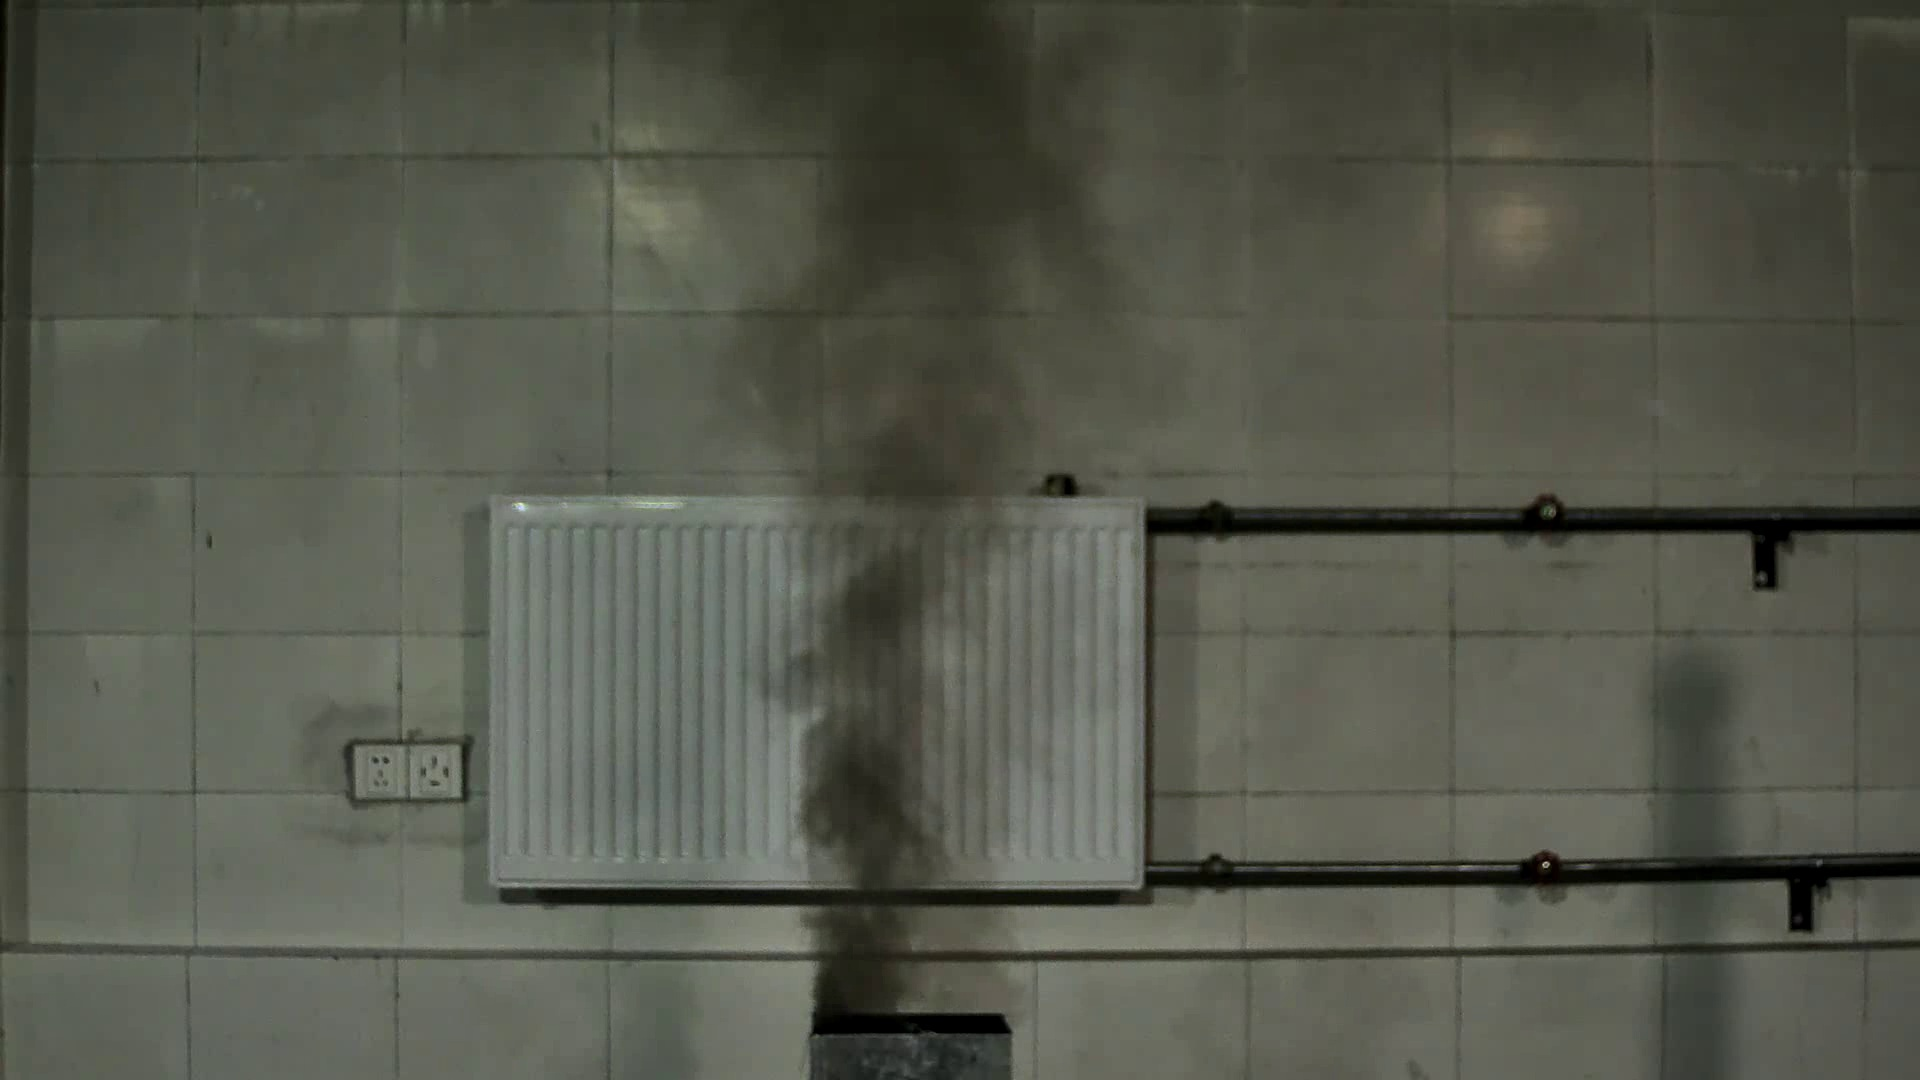smoke: (740, 284, 1044, 1009)
